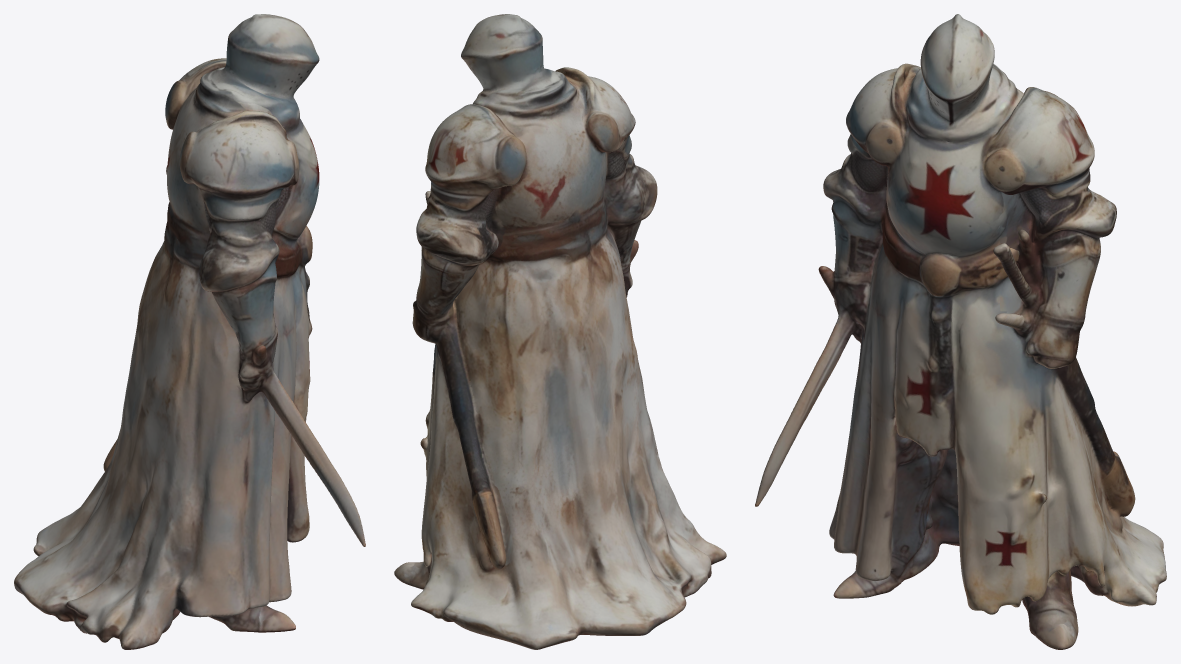
The model's file is medieval_knight.glb.
The picture shows the model from 3 angles, left to right: view 1: azimuth 30°, elevation 25°; view 2: azimuth 150°, elevation 25°; view 3: azimuth 270°, elevation 25°; orthographic projection. The views are drawn at different scales.
Parts seen in each view (by area): view 1: tripo_node_96cbe564-4d16-4a97-96b6-0835aa130e7d_0; view 2: tripo_node_96cbe564-4d16-4a97-96b6-0835aa130e7d_0; view 3: tripo_node_96cbe564-4d16-4a97-96b6-0835aa130e7d_0.
Boxes of the visible parts, <box> form: tripo_node_96cbe564-4d16-4a97-96b6-0835aa130e7d_0: <box>14,14,365,649</box>; tripo_node_96cbe564-4d16-4a97-96b6-0835aa130e7d_0: <box>394,14,726,649</box>; tripo_node_96cbe564-4d16-4a97-96b6-0835aa130e7d_0: <box>755,14,1166,649</box>.
Size of the model in its own units: 0.4726 by 0.9461 by 0.5887.
Materials: 1 (1 with a texture image).
